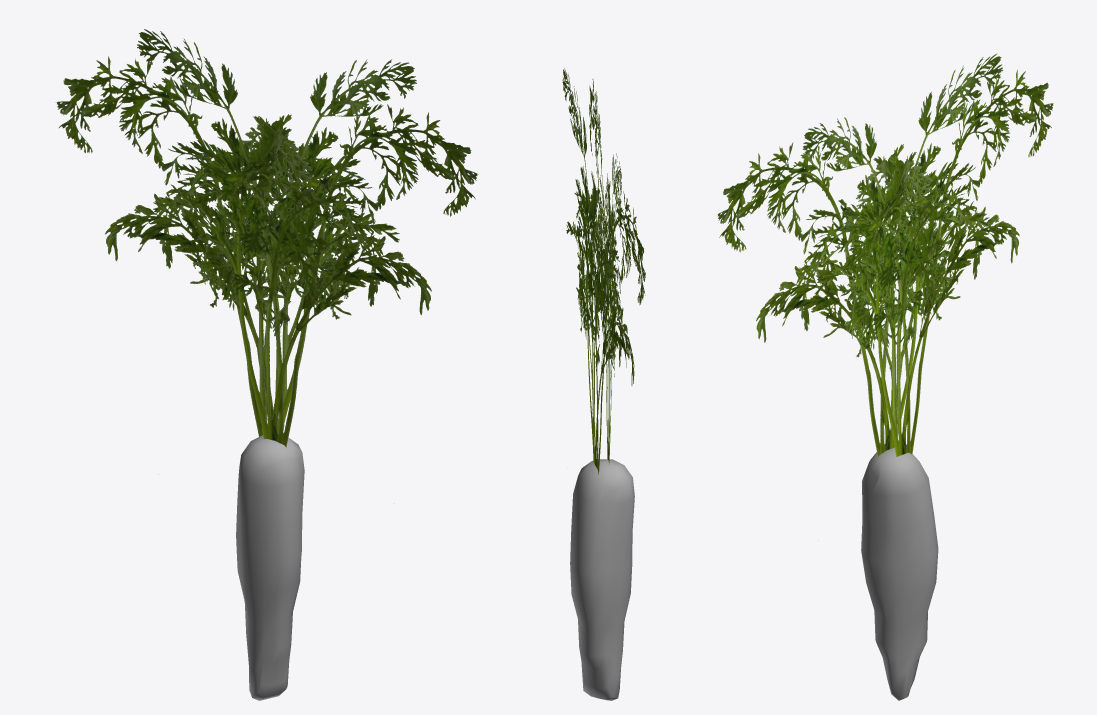
File: Small_Carrot.fbx
3 renders of one model, left to right at view 1: azimuth 30°, elevation 25°; view 2: azimuth 150°, elevation 25°; view 3: azimuth 270°, elevation 25°, orthographic. The views are drawn at different scales.
Visible parts, largest first — view 1: pPlane30, pPlane29, polySurface22; view 2: polySurface22, pPlane29, pPlane30; view 3: pPlane29, pPlane30, polySurface22.
Boxes of the visible parts, box(x1,y1,x2,y2) form: pPlane30: box(137, 29, 478, 474); pPlane29: box(55, 56, 416, 436); polySurface22: box(236, 435, 304, 700); polySurface22: box(570, 459, 634, 700); pPlane29: box(562, 68, 645, 474); pPlane30: box(589, 79, 621, 464); pPlane29: box(802, 69, 1053, 540); pPlane30: box(717, 53, 1002, 456); polySurface22: box(861, 447, 938, 700).
Bounding box in the file's own units: 8.44 × 17.65 × 10.45.
Materials: 2 (1 with a texture image).
